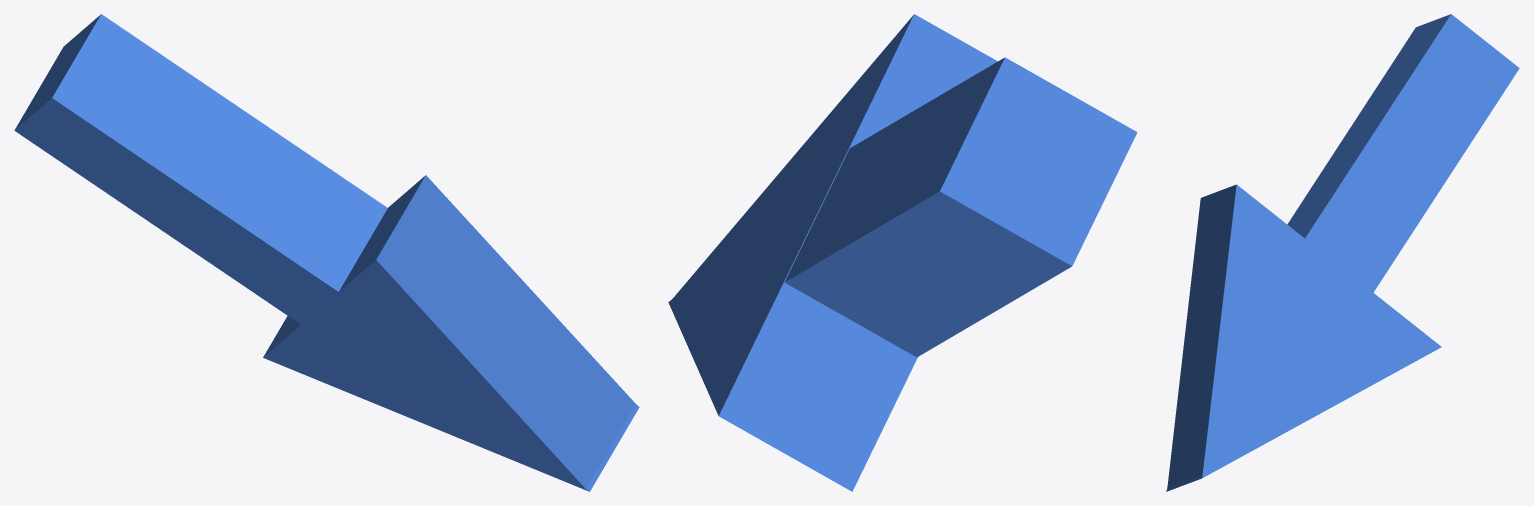
Rendered from arrow.fbx.
3 views of the same model, side by side, from view 1: azimuth 30°, elevation 25°; view 2: azimuth 150°, elevation 25°; view 3: azimuth 270°, elevation 25° (orthographic). The views are drawn at different scales.
Visible parts, largest first — view 1: arrow; view 2: arrow; view 3: arrow.
Part boxes in pixels (left/top/right/bottom): arrow: left=14, top=14, right=639, bottom=491; arrow: left=668, top=14, right=1137, bottom=491; arrow: left=1166, top=14, right=1519, bottom=491.
Size of the model in its own units: 966 by 863 by 787.
